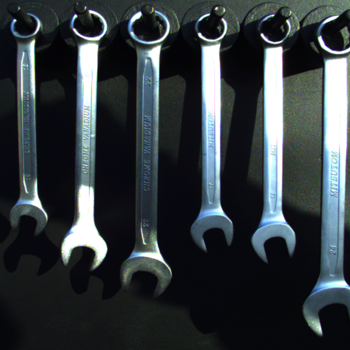bottom: (301, 280, 350, 339), (117, 251, 174, 300), (57, 227, 109, 273), (186, 210, 237, 254), (249, 219, 297, 264), (7, 198, 48, 238)
top: (124, 7, 174, 49), (314, 13, 350, 60), (66, 8, 110, 45), (254, 11, 293, 48), (192, 10, 230, 45), (8, 10, 45, 44)
